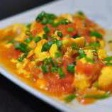fanqiechaojidan: (1, 12, 112, 103)
